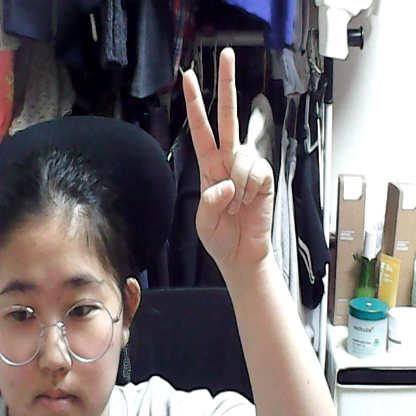Finger_2: (175, 42, 285, 298)
